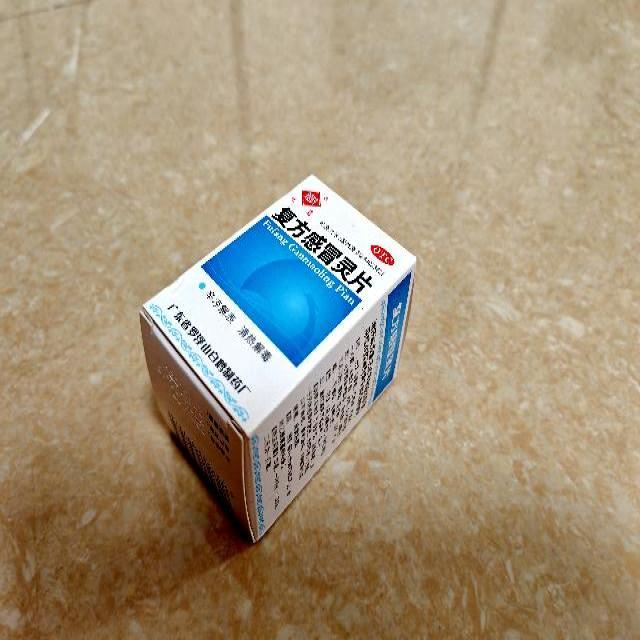box: (140, 176, 416, 544)
